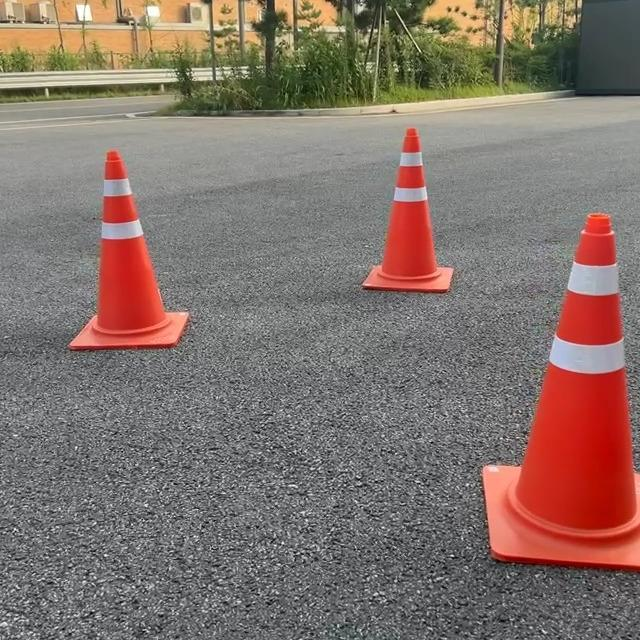fallen_object: (434, 187, 640, 573), (332, 102, 502, 349), (72, 147, 209, 369)
